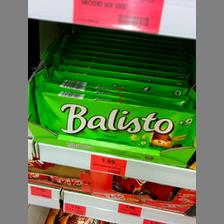Schokolade: (33, 82, 195, 154)
